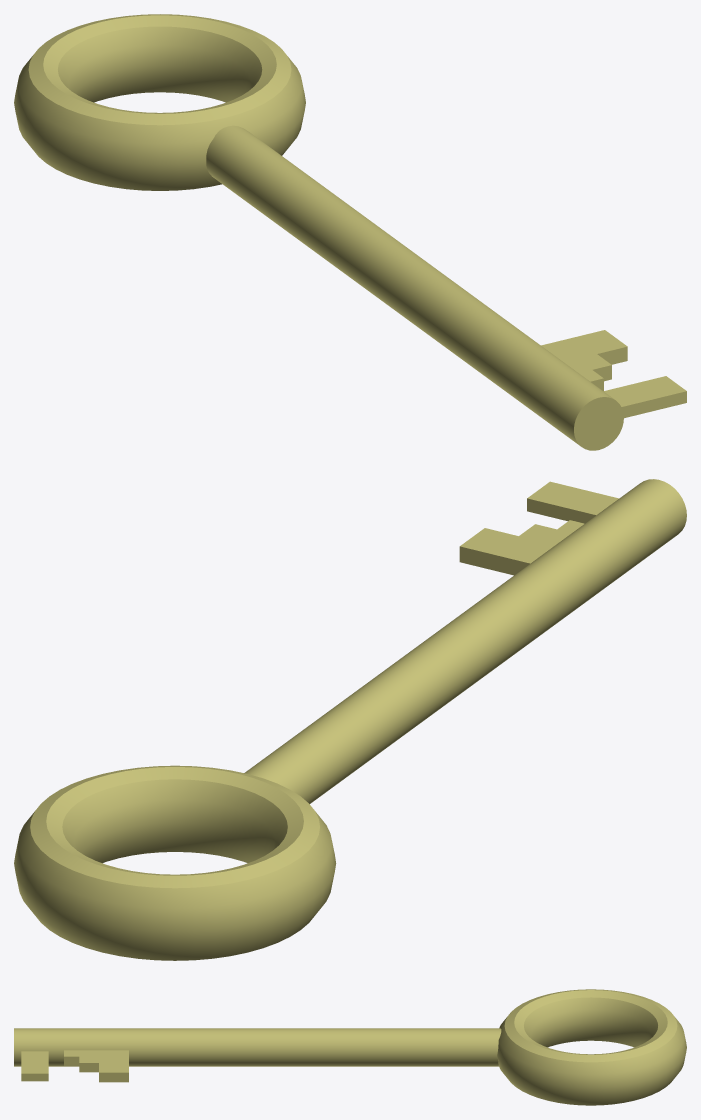
3 renders of one model, top to bottom at view 1: azimuth 30°, elevation 25°; view 2: azimuth 150°, elevation 25°; view 3: azimuth 270°, elevation 25°, orthographic. The views are drawn at different scales.
Visible parts, largest first — view 1: 圓柱體; view 2: 圓柱體; view 3: 圓柱體.
Boxes of the visible parts, <box> form: 圓柱體: <box>14,14,686,450</box>; 圓柱體: <box>14,479,686,960</box>; 圓柱體: <box>14,989,686,1105</box>.
Bounding box in the file's own units: 4.8 × 1.38 × 16.81.
